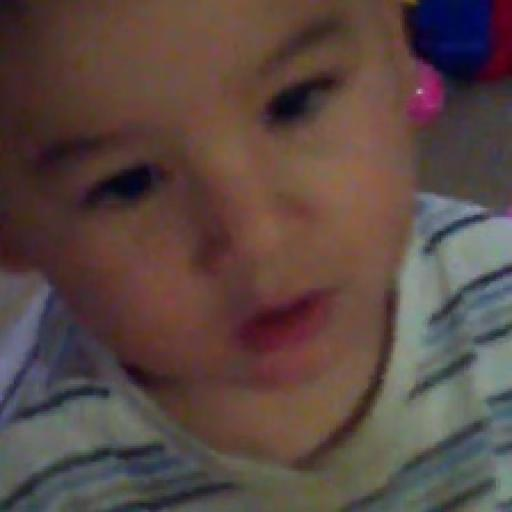Autism: (9, 10, 465, 492)
